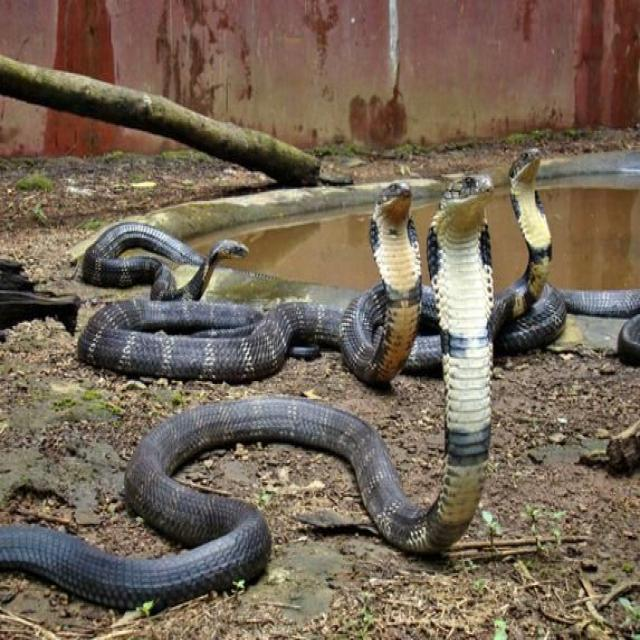Snake: (6, 138, 639, 608)
